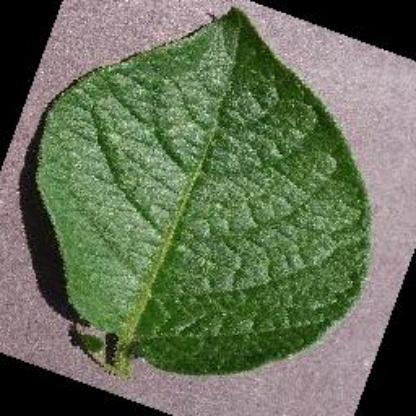Healthy-plant: (31, 8, 389, 382)
